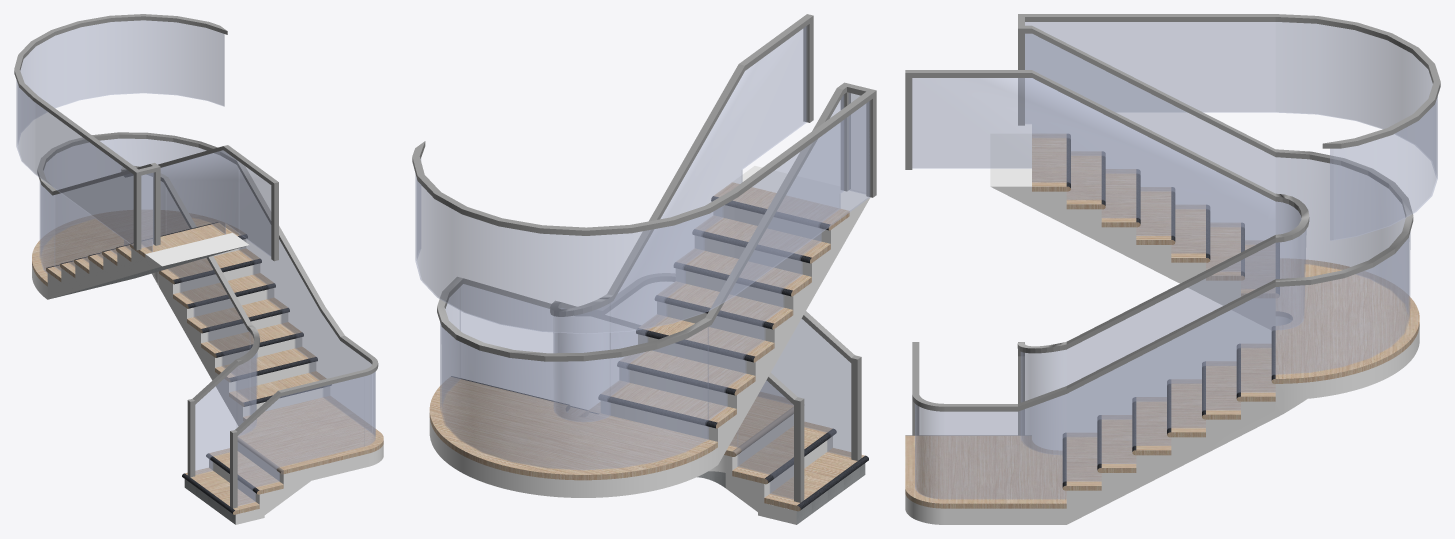
Rendered from stairs_packed.glb.
3 renders of one model, left to right at view 1: azimuth 30°, elevation 25°; view 2: azimuth 150°, elevation 25°; view 3: azimuth 270°, elevation 25°, orthographic. The views are drawn at different scales.
Size of the model in its own units: 2.81 by 4.18 by 4.91.
Materials: 8 (4 with a texture image).
